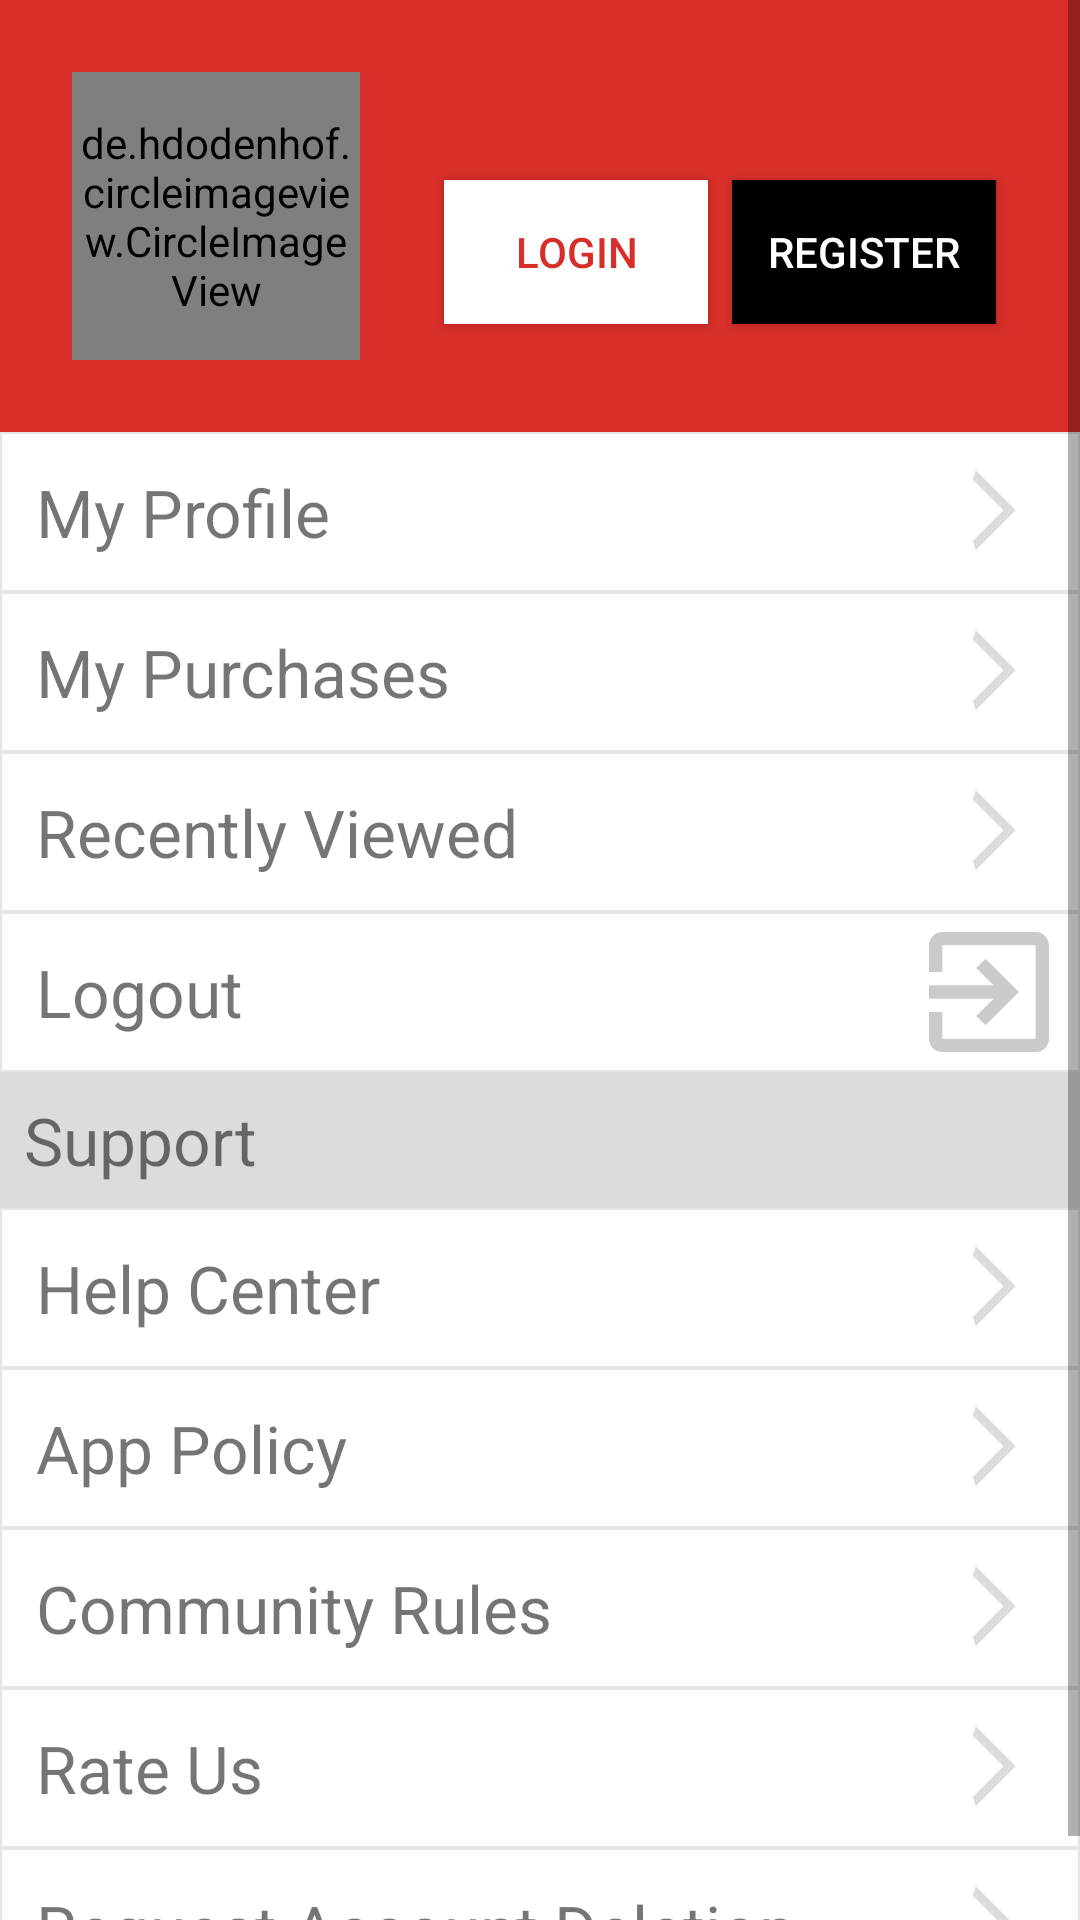

Named icons in this screenshot (1080×1920) and their centers, [x,y]:
exit to app: [989,992]
